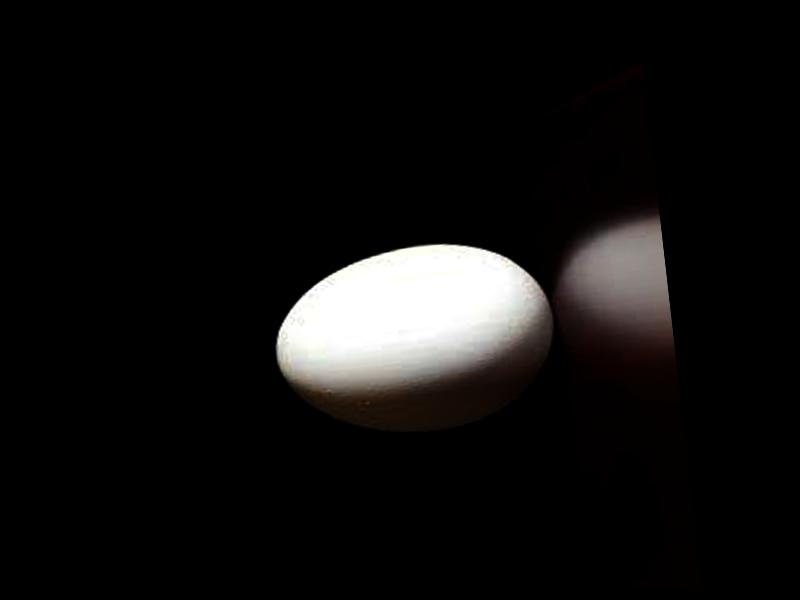Eggs: (265, 231, 564, 445)
